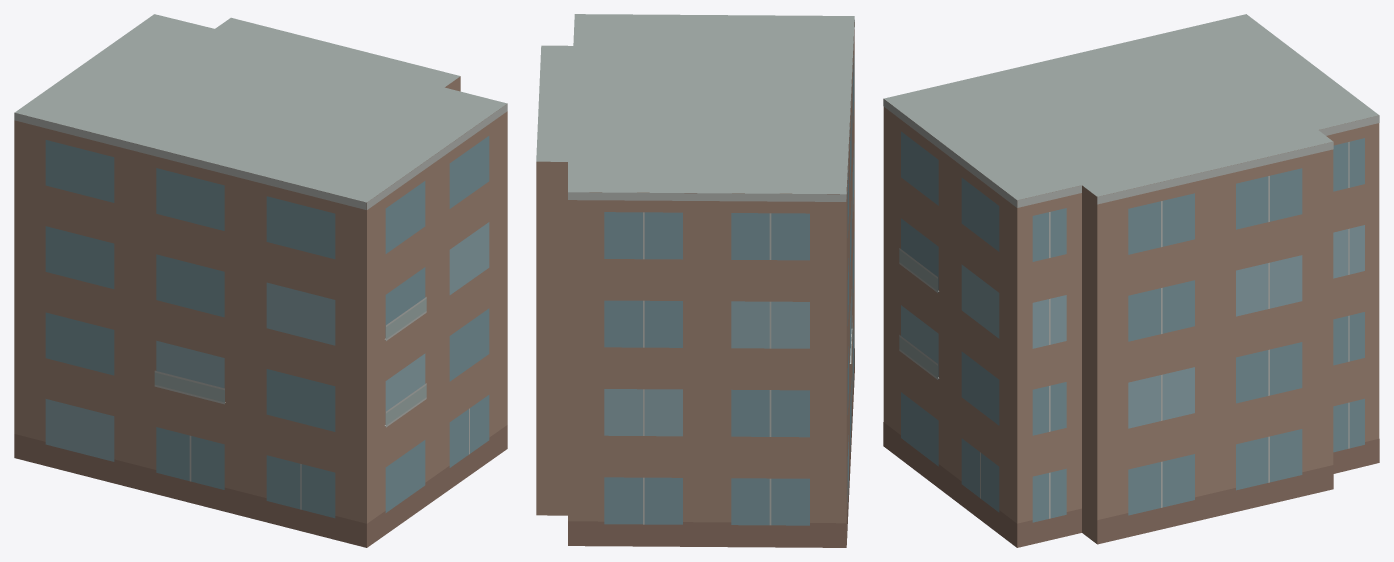
File: survey-upis-32526274.glb
3 views of the same model, side by side, from view 1: azimuth 30°, elevation 25°; view 2: azimuth 150°, elevation 25°; view 3: azimuth 270°, elevation 25° (orthographic). The views are drawn at different scales.
Parts seen in each view (by area): view 1: survey-upis-32526274.tmp; view 2: survey-upis-32526274.tmp; view 3: survey-upis-32526274.tmp.
Part boxes in pixels (box(x1,y1,x2,y2)): survey-upis-32526274.tmp: box(14, 14, 507, 547); survey-upis-32526274.tmp: box(536, 14, 854, 547); survey-upis-32526274.tmp: box(883, 14, 1379, 547).
Bounding box in the file's own units: 12.59 × 10.95 × 14.17.
